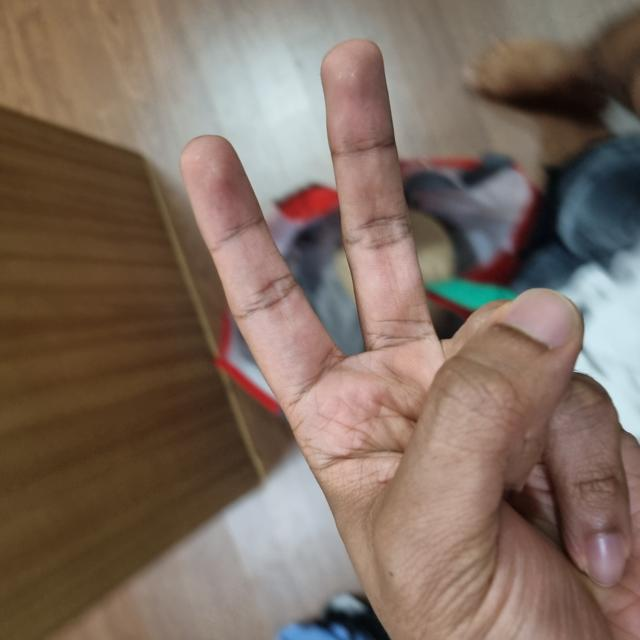Scissors: (0, 366, 344, 639)
